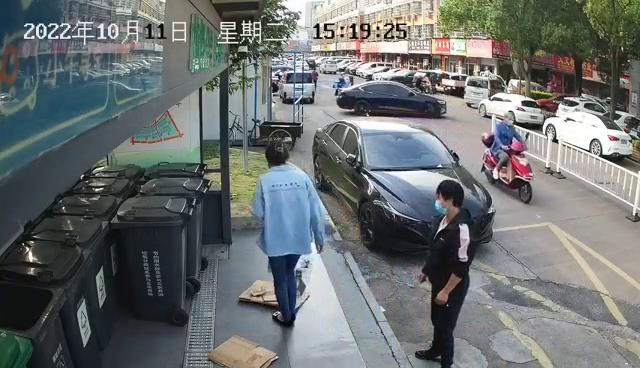person: (412, 179, 476, 368)
worker: (253, 137, 326, 328)
zhizhipin: (205, 333, 279, 368), (237, 278, 286, 306)
